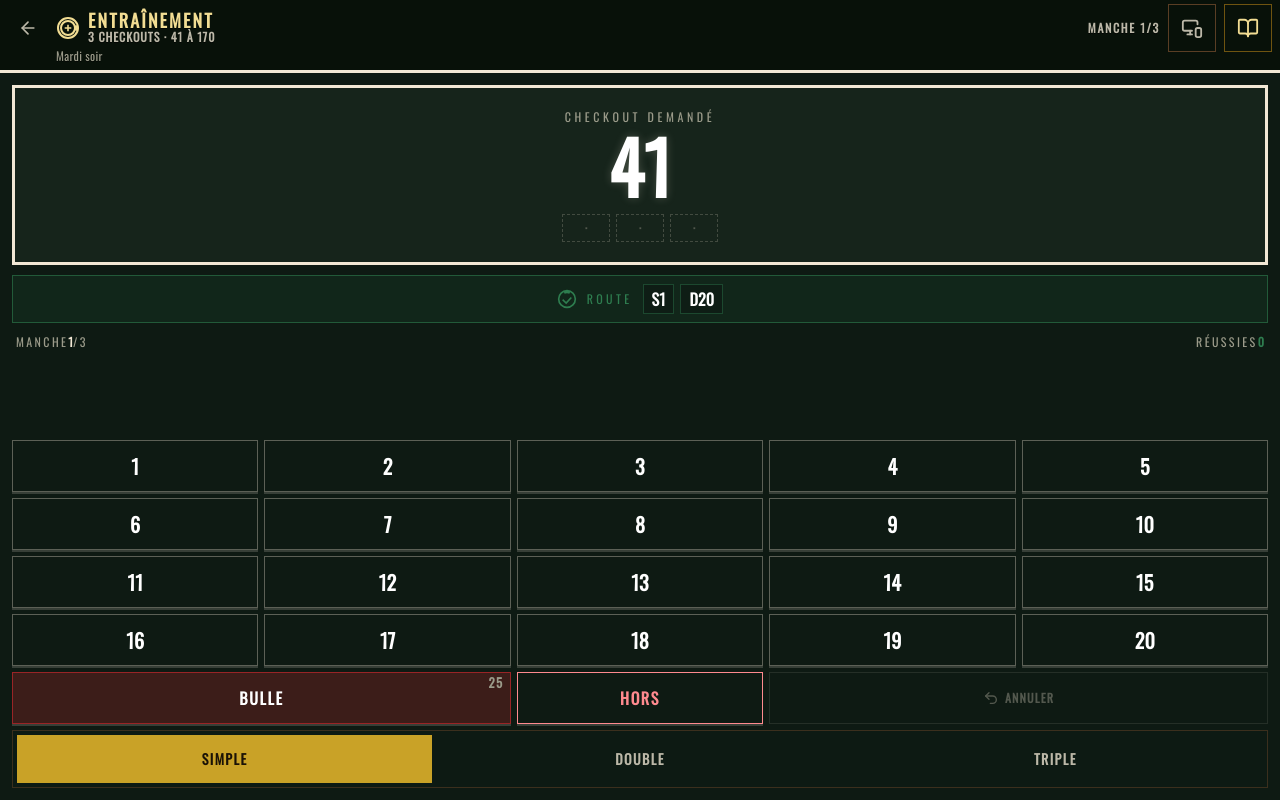
Le livre ouvert, sur le match › ouvre la feuille de règles de CHECKOUT_PRACTICE sans changer d’URL
The image size is (1280, 800).
Click the button named "Règles de l’entraînement" at (1248, 28), box top-left (1224, 4), bottom-right (1272, 52)
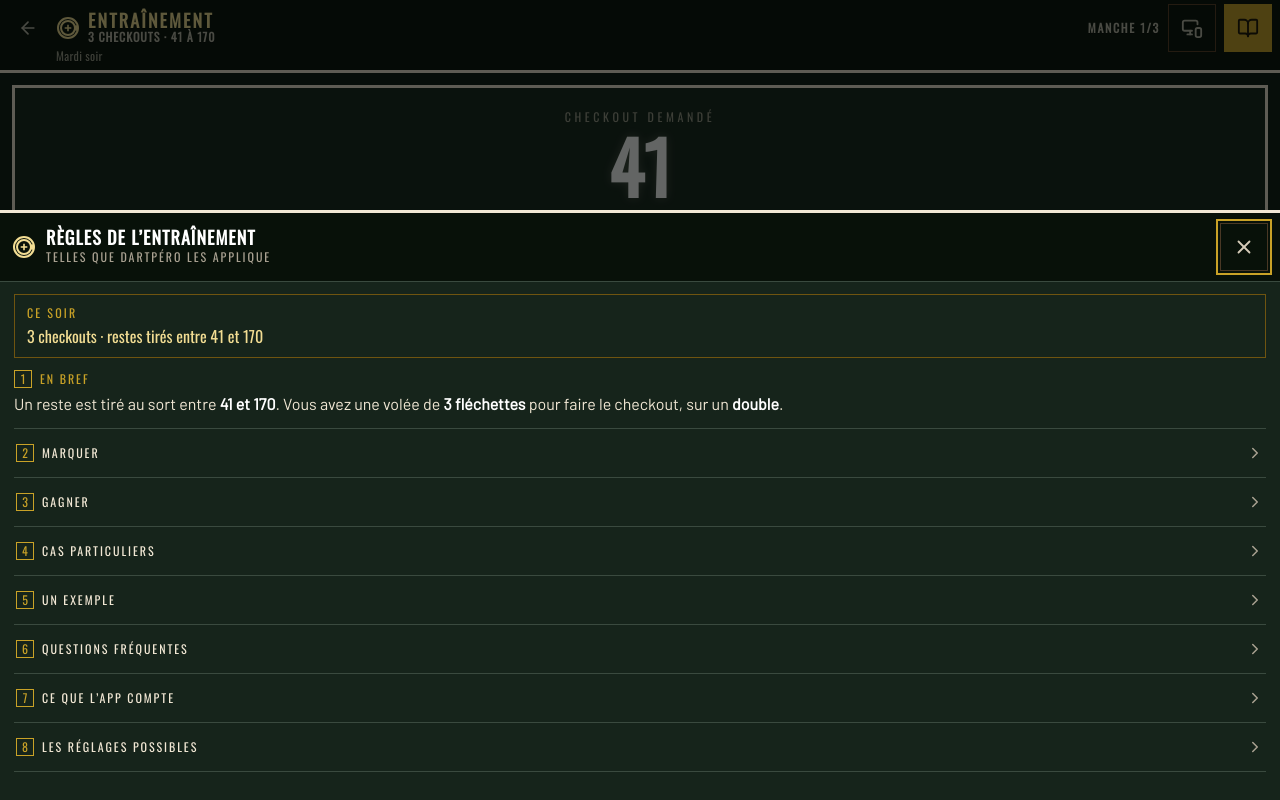
expect the dialog "Règles de l’entraînement" is shown: met
expect the button named "Règles de l’entraînement" is expanded: met, box top-left (1224, 4), bottom-right (1272, 52)
